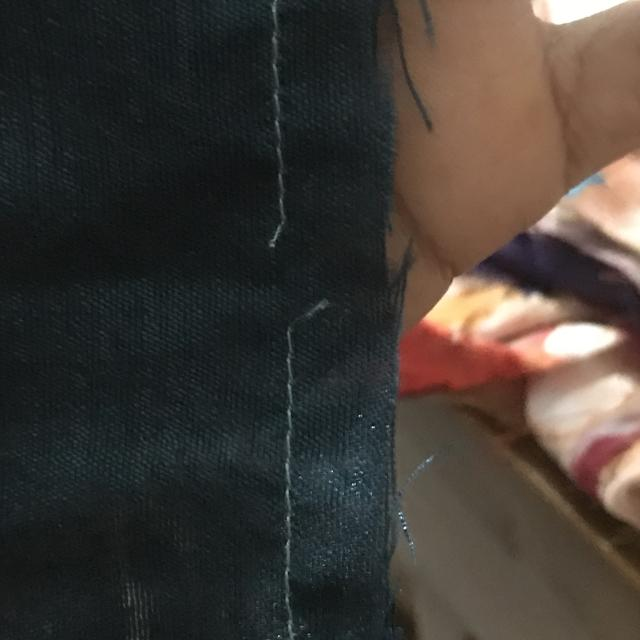broken: (249, 206, 357, 366)
